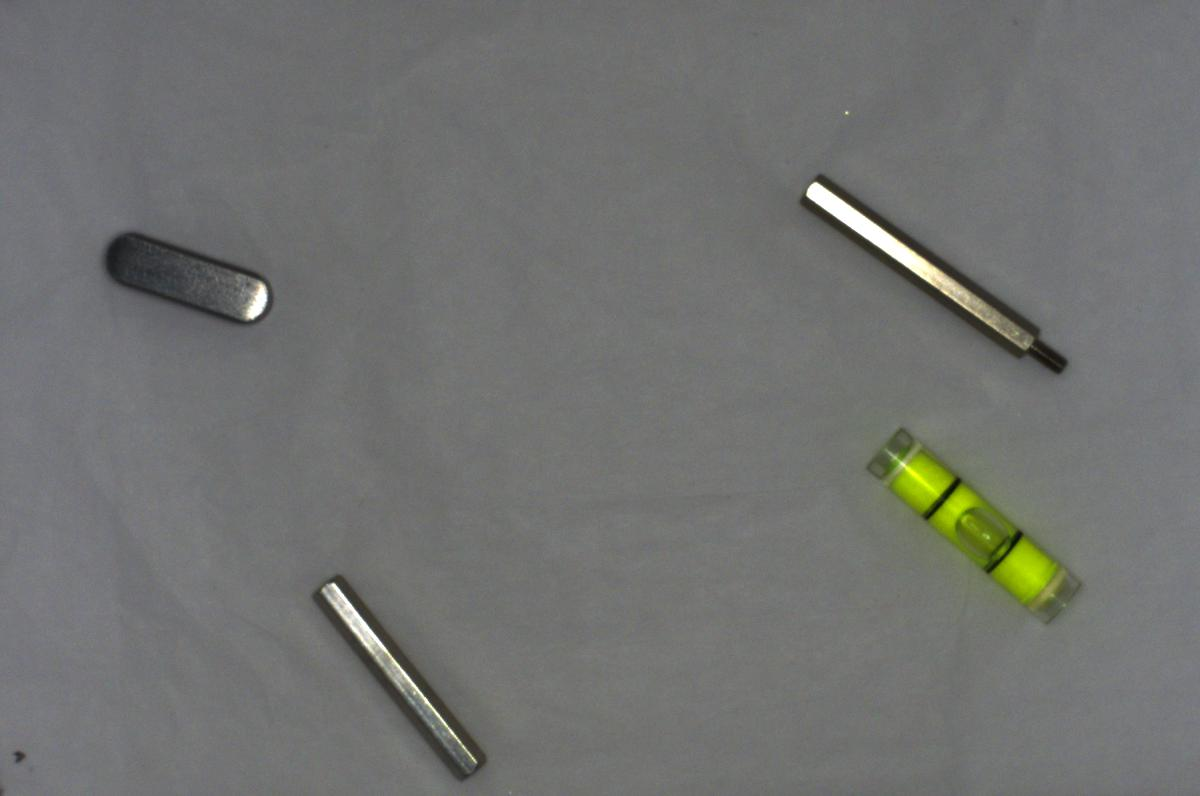Double hexagonal column: (306, 555, 495, 785)
Hexagonal steel column: (793, 167, 1078, 387)
Horizontal bubble: (857, 420, 1086, 632)
Keybar: (85, 228, 275, 335)
